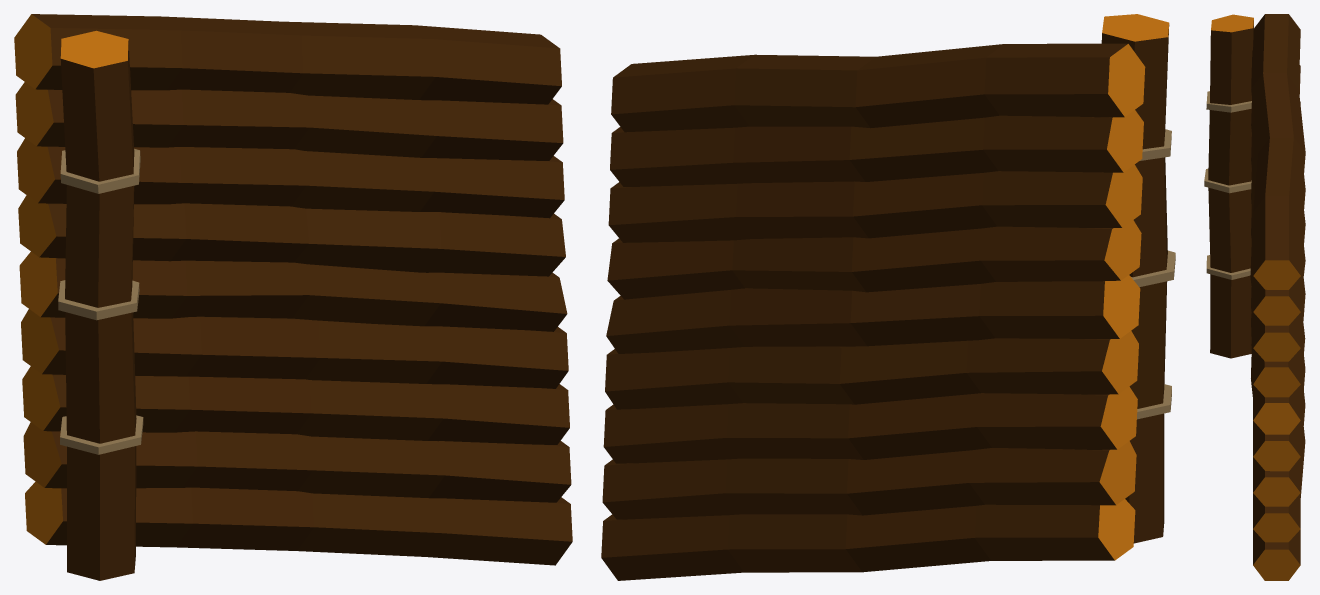
The model's file is juoksuhauta_tukipuut_maki.fbx.
The picture shows the model from 3 angles, left to right: view 1: azimuth 30°, elevation 25°; view 2: azimuth 150°, elevation 25°; view 3: azimuth 270°, elevation 25°; orthographic projection. The views are drawn at different scales.
Parts seen in each view (by area): view 1: wood_stack, wood_pilar; view 2: wood_stack, wood_pilar; view 3: wood_stack, wood_pilar.
Boxes of the visible parts, x1=… form: wood_stack: x1=14, y1=14, x2=572, y2=565; wood_pilar: x1=58, y1=30, x2=143, y2=580; wood_stack: x1=601, y1=43, x2=1145, y2=580; wood_pilar: x1=1101, y1=14, x2=1175, y2=543; wood_stack: x1=1250, y1=14, x2=1305, y2=580; wood_pilar: x1=1204, y1=14, x2=1253, y2=358.
Bounding box in the file's own units: 206 × 241 × 53.64.
